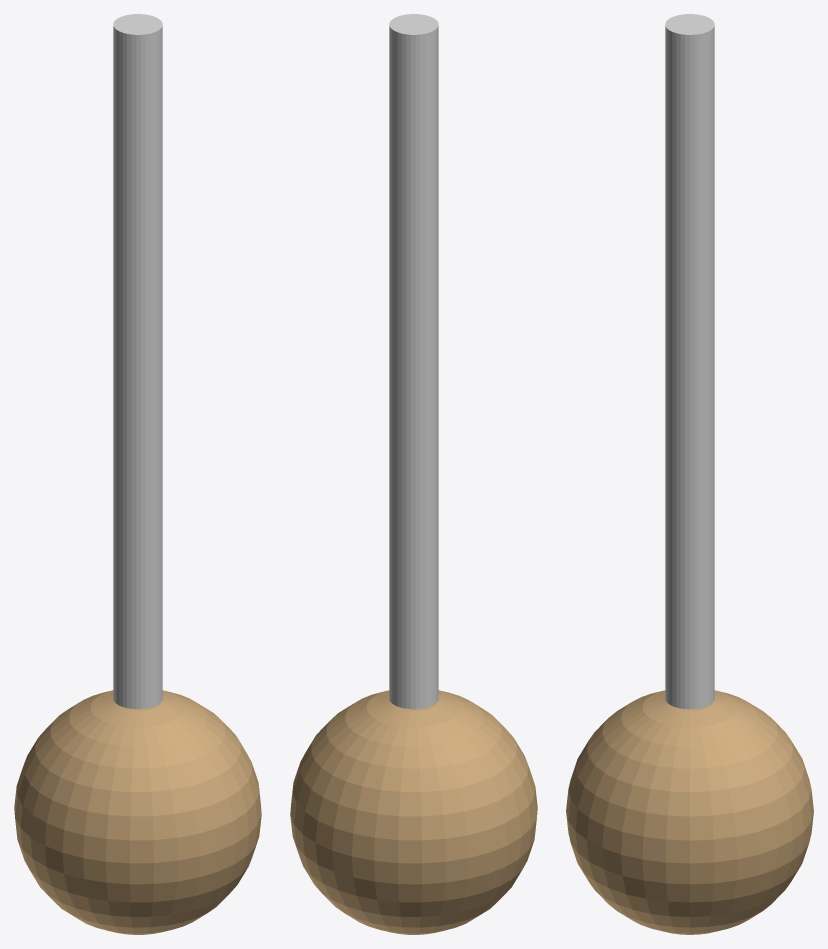
File: earring.glb
The picture shows the model from 3 angles, left to right: view 1: azimuth 30°, elevation 25°; view 2: azimuth 150°, elevation 25°; view 3: azimuth 270°, elevation 25°; orthographic projection.
Visible parts, largest first — view 1: EarringTrinket, EarringPin; view 2: EarringTrinket, EarringPin; view 3: EarringTrinket, EarringPin.
Boxes of the visible parts, x1,y1,x2,y2 form: EarringTrinket: (14,690,261,934); EarringPin: (113,14,162,709); EarringTrinket: (290,690,537,934); EarringPin: (389,14,438,709); EarringTrinket: (566,690,813,934); EarringPin: (665,14,714,709).
Bounding box in the file's own units: 0.2 × 0.8 × 0.2.
